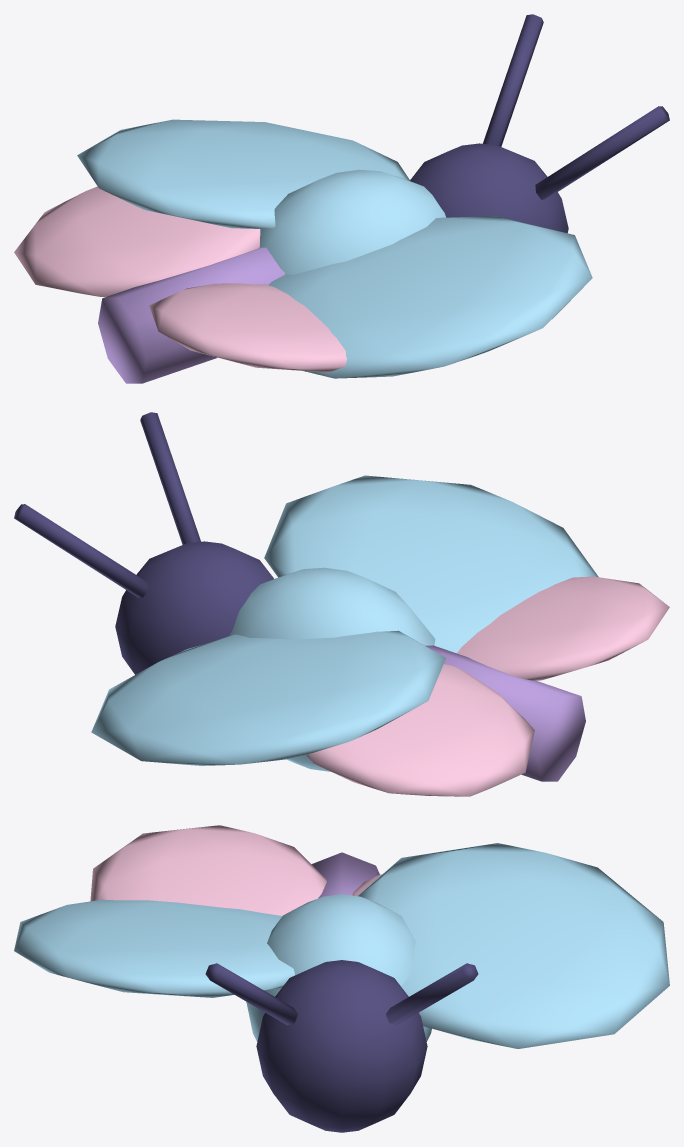
File: crystal_butterfly.glb
3 views of the same model, one above another, from view 1: azimuth 30°, elevation 25°; view 2: azimuth 150°, elevation 25°; view 3: azimuth 270°, elevation 25° (orthographic).
Visible parts, largest first — view 1: wing_r_front.002, wing_l_front.002, wing_l_back.002, thorax.003, wing_r_back.002, abdomen.002, head.006, antenna_-1.005, antenna_1.005; view 2: wing_l_front.002, wing_r_front.002, wing_l_back.002, wing_r_back.002, head.006, thorax.003, abdomen.002, antenna_1.005, antenna_-1.005; view 3: wing_l_front.002, head.006, wing_r_front.002, wing_r_back.002, thorax.003, antenna_-1.005, antenna_1.005, abdomen.002.
Boxes of the visible parts, x1,y1,x2,y2 form: wing_r_front.002: [268, 216, 592, 378]; wing_l_front.002: [77, 119, 409, 228]; wing_l_back.002: [14, 186, 260, 296]; thorax.003: [259, 169, 445, 274]; wing_r_back.002: [149, 283, 346, 372]; abdomen.002: [98, 247, 284, 383]; head.006: [410, 143, 568, 233]; antenna_-1.005: [535, 106, 669, 199]; antenna_1.005: [483, 14, 543, 146]; wing_l_front.002: [91, 630, 445, 765]; wing_r_front.002: [264, 475, 598, 653]; wing_l_back.002: [306, 663, 534, 796]; wing_r_back.002: [457, 576, 669, 680]; head.006: [115, 541, 273, 674]; thorax.003: [229, 567, 435, 771]; abdomen.002: [425, 645, 585, 781]; antenna_1.005: [14, 504, 148, 597]; antenna_-1.005: [140, 412, 200, 544]; wing_l_front.002: [357, 843, 669, 1048]; head.006: [256, 960, 427, 1132]; wing_r_front.002: [14, 899, 294, 997]; wing_r_back.002: [90, 825, 326, 915]; thorax.003: [246, 894, 431, 1041]; antenna_-1.005: [205, 963, 297, 1025]; antenna_1.005: [386, 963, 478, 1025]; abdomen.002: [311, 852, 379, 898].
Size of the model in its own units: 2.19 by 1.01 by 2.45.
